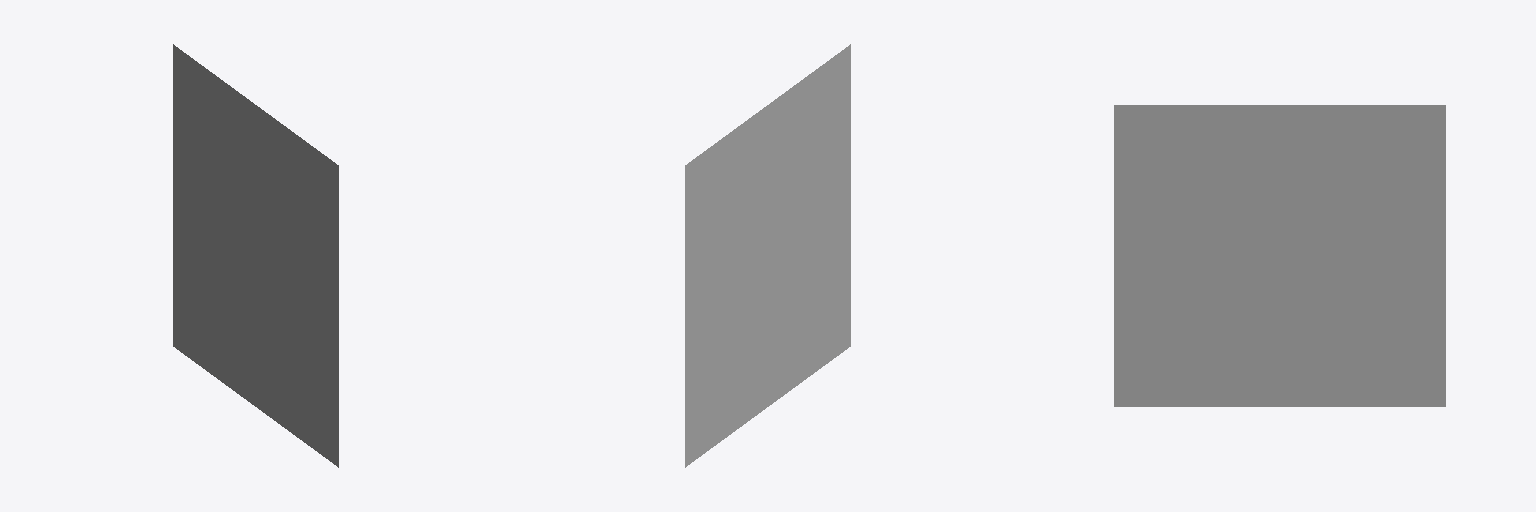
Rendered from pared3-brick.obj.
3 renders of one model, left to right at view 1: azimuth 30°, elevation 25°; view 2: azimuth 150°, elevation 25°; view 3: azimuth 270°, elevation 25°, orthographic.
Visible parts, largest first — view 1: Grid.003; view 2: Grid.003; view 3: Grid.003.
Part boxes in pixels (bbox=[...]): Grid.003: bbox=[173, 44, 338, 467]; Grid.003: bbox=[685, 44, 850, 467]; Grid.003: bbox=[1114, 105, 1445, 406].
Size of the model in its own units: 0 by 15.91 by 15.87.